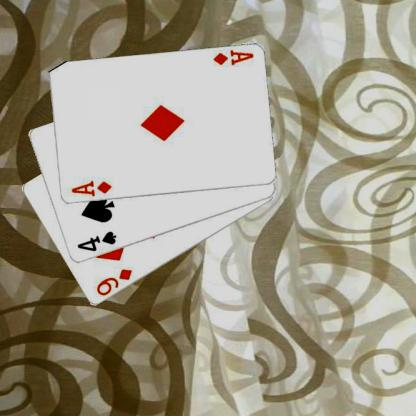4S: (75, 229, 118, 253)
9D: (93, 266, 133, 298)
AD: (69, 178, 112, 198), (211, 48, 254, 67)
